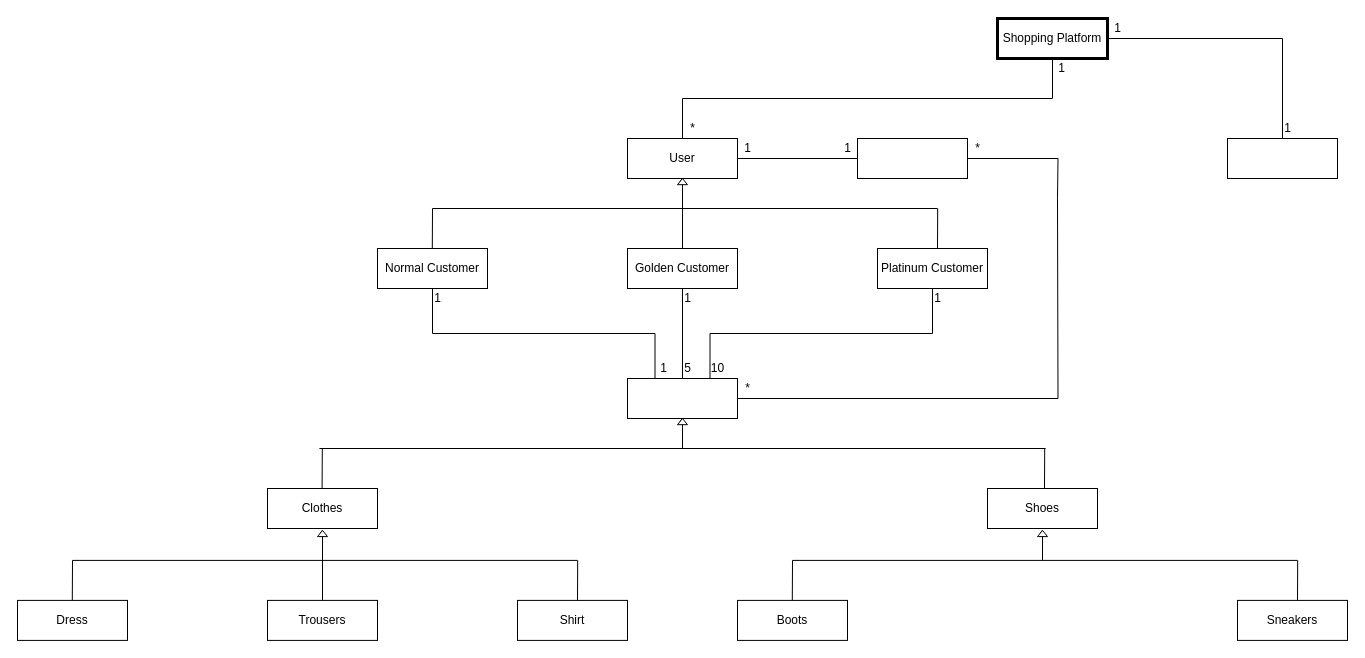
The diagram is 1365 pixels wide and 658 high, and some of its shapes have lost their labels. Each missing label, with the box of its shape:
Cart: (856, 138, 968, 178)
Product: (626, 378, 738, 418)
Search Bar: (1226, 138, 1338, 178)
